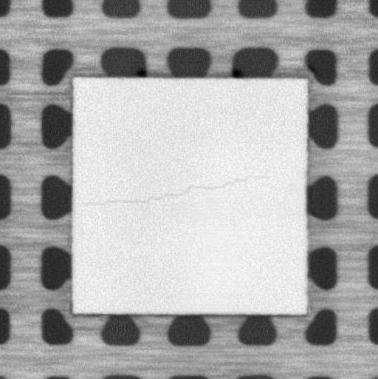DIE_CRACK: (87, 174, 270, 207)
